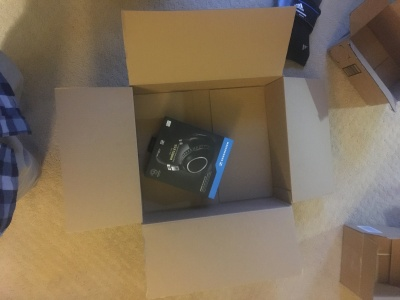innerbox: (132, 84, 291, 209)
outerbox: (59, 10, 329, 275)
product: (146, 126, 224, 190)
